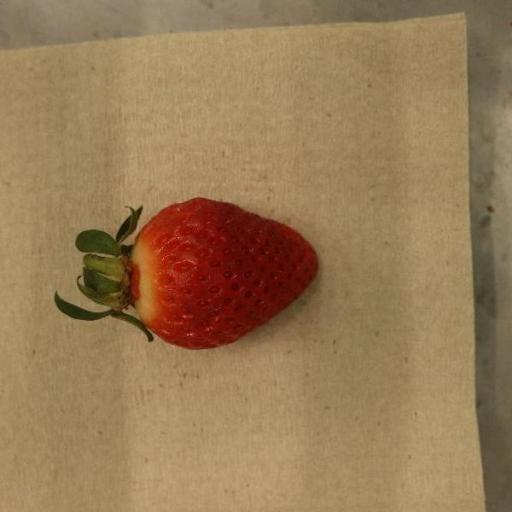Strawberry: (53, 198, 318, 351)
